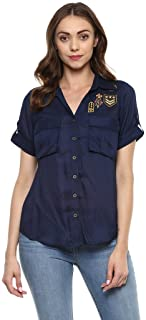shirt: (10, 71, 145, 248)
